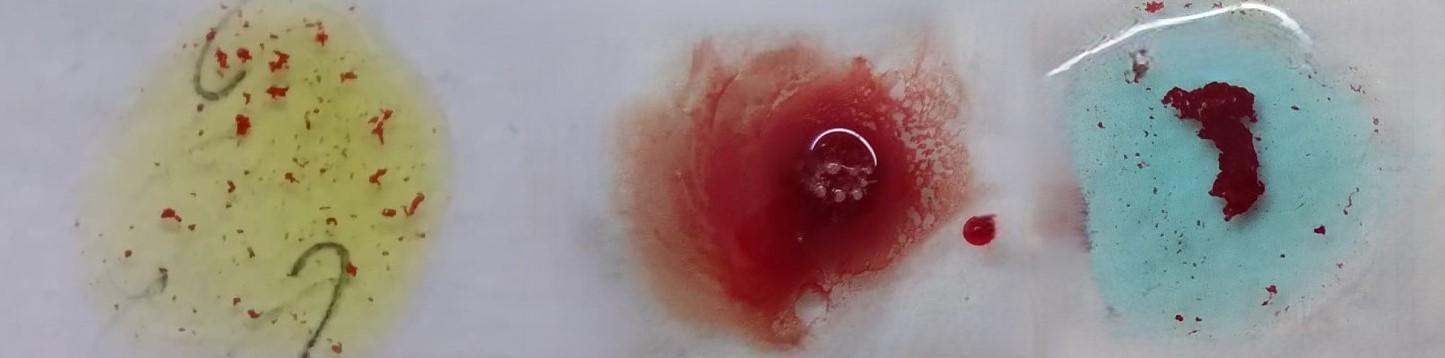A: (1057, 12, 1366, 358)
B: (140, 0, 407, 358)
D: (610, 12, 946, 347)
